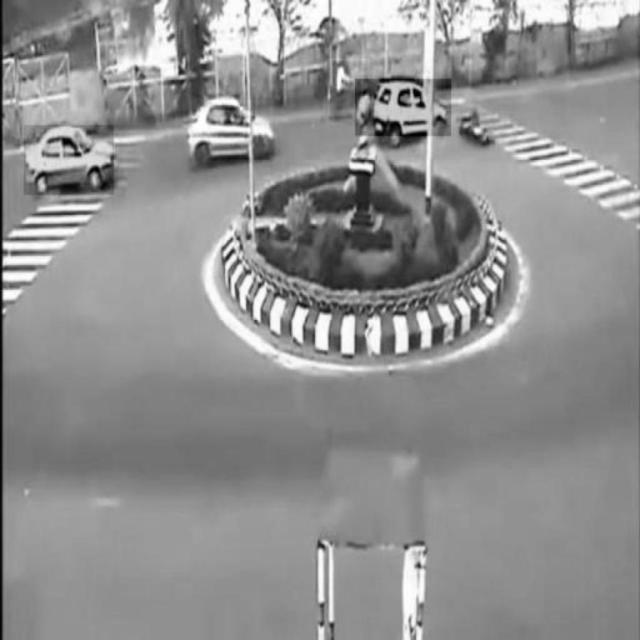vehicle: (24, 125, 114, 195), (355, 79, 451, 136), (190, 99, 273, 157), (327, 59, 371, 116)
